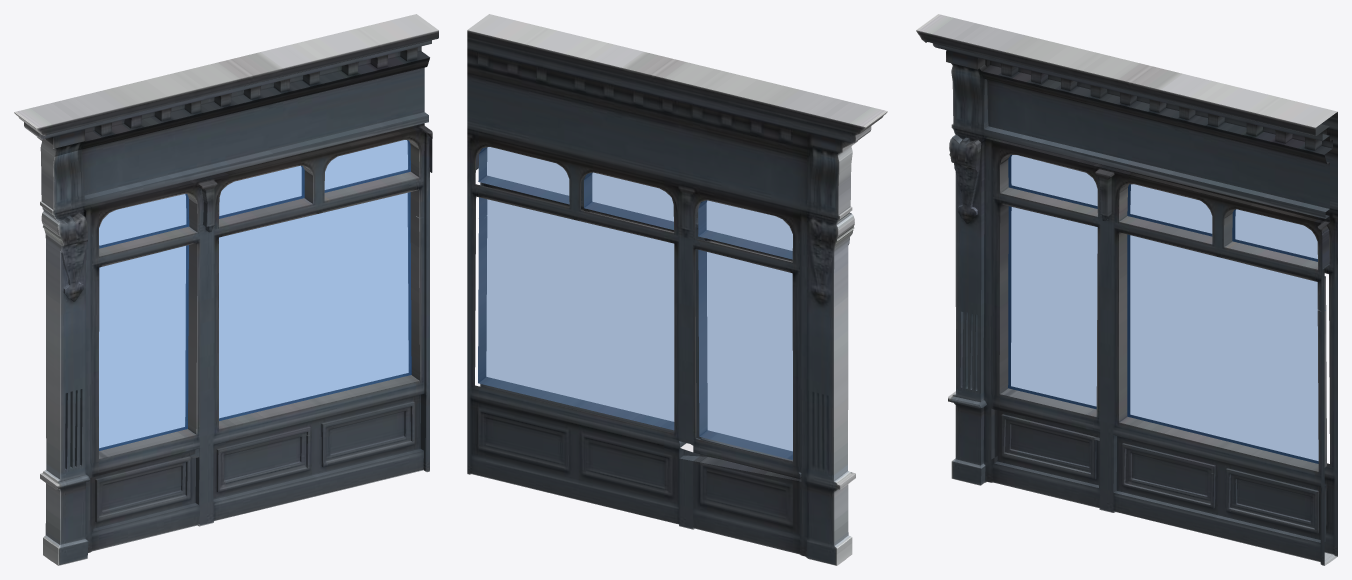
File: SM_StoneDisplay.glb
The picture shows the model from 3 angles, left to right: view 1: azimuth 30°, elevation 25°; view 2: azimuth 150°, elevation 25°; view 3: azimuth 330°, elevation 25°; orthographic projection.
Visible parts, largest first — view 1: SM_StoneDisplay; view 2: SM_StoneDisplay; view 3: SM_StoneDisplay.
Boxes of the visible parts, box(x1,y1,x2,y2) form: SM_StoneDisplay: box(14, 14, 438, 565); SM_StoneDisplay: box(467, 14, 887, 565); SM_StoneDisplay: box(916, 14, 1337, 565).
Size of the model in its own units: 7.6 by 8.12 by 0.7276.
Materials: 2 (1 with a texture image).
